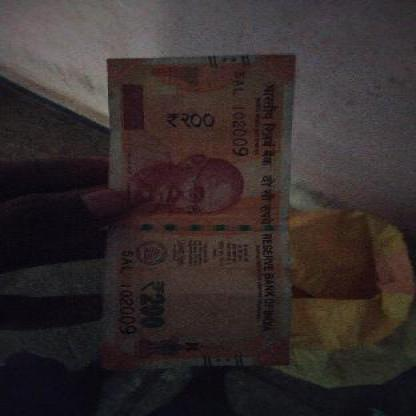New200Front: (106, 58, 289, 358)
